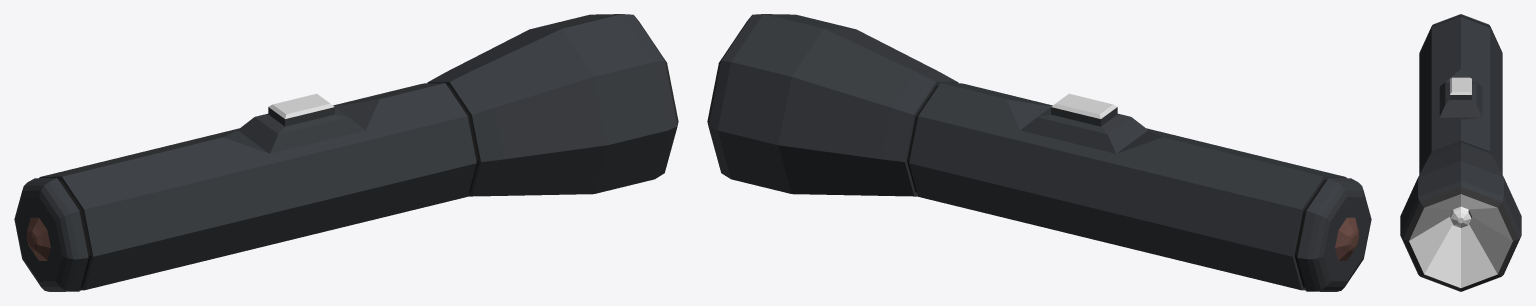
The model's file is Fanar.fbx.
3 renders of one model, left to right at view 1: azimuth 30°, elevation 25°; view 2: azimuth 150°, elevation 25°; view 3: azimuth 270°, elevation 25°, orthographic. The views are drawn at different scales.
Visible parts, largest first — view 1: fanar; view 2: fanar; view 3: fanar.
Boxes of the visible parts, x1,y1,x2,y2 form: fanar: (14,14,678,291); fanar: (707,14,1371,291); fanar: (1400,14,1521,291).
Size of the model in its own units: 925 by 241 by 241.
Materials: 1 (1 with a texture image).
